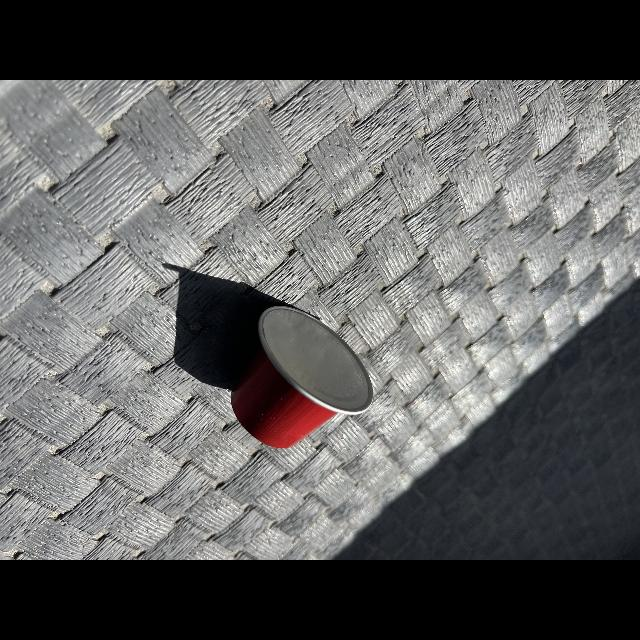intact_capsule: (222, 290, 386, 474)
